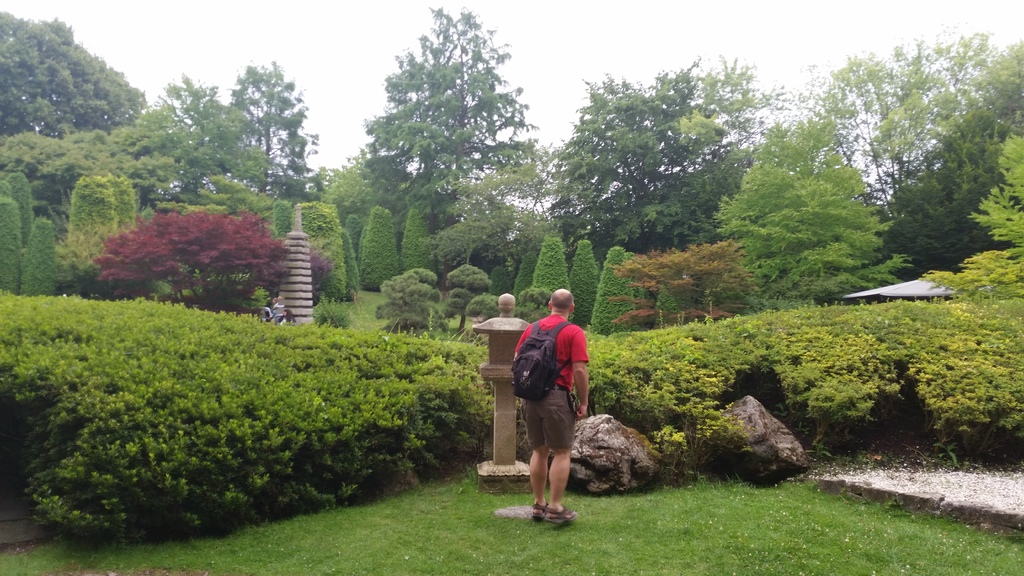Person: (511, 288, 588, 524)
